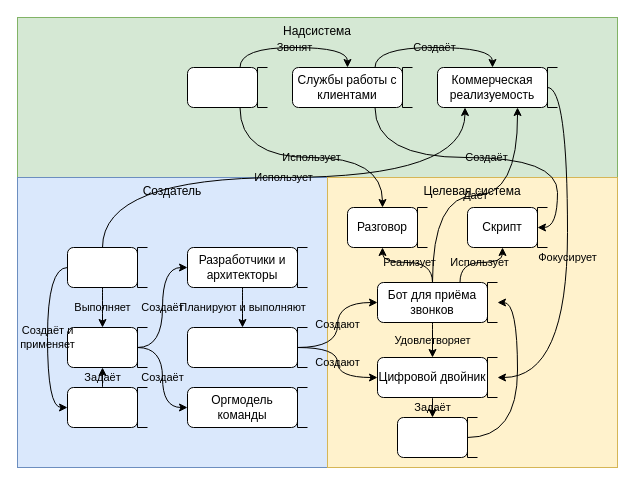
Some shapes in this 635 by 485 pixel diagram are drawn without their labels. The shapes that lost their labels are listed below. From the top down, each one's centre as x and y in pixels, then its label:
(x=222, y=87): Конечные собеседники
(x=102, y=267): Организа тор
(x=102, y=347): Стратегиро вание
(x=242, y=347): Работы создания бота
(x=102, y=407): Стратегия
(x=432, y=437): Поддержка, улучшение
